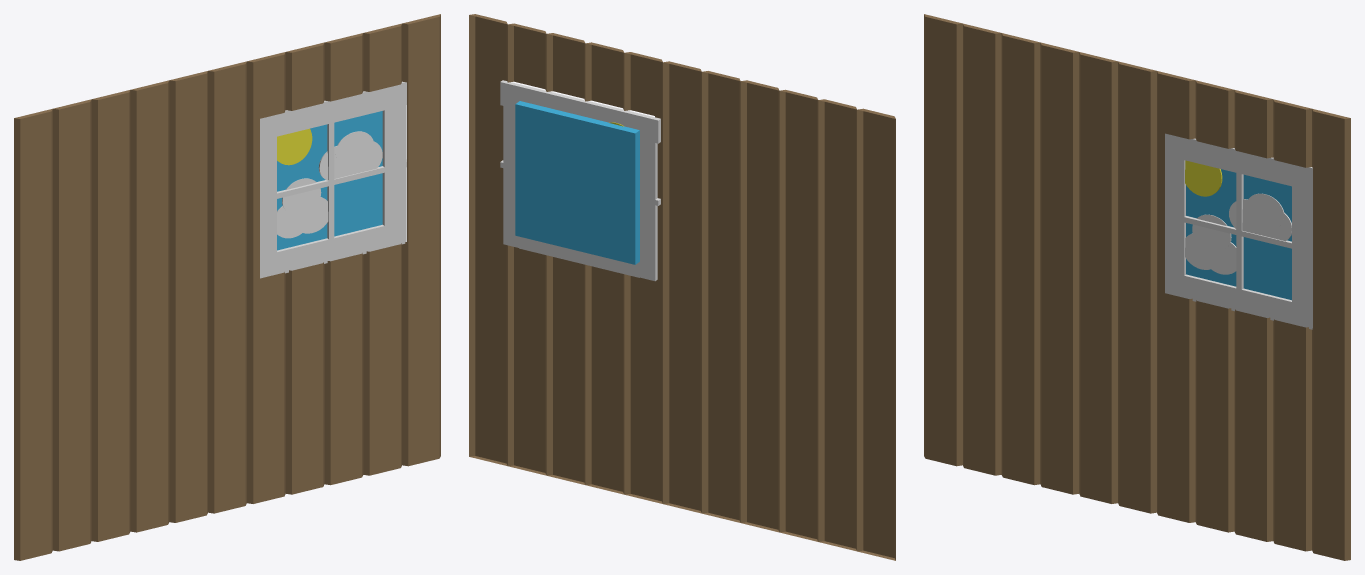
Rendered from background.fbx.
3 renders of one model, left to right at view 1: azimuth 30°, elevation 25°; view 2: azimuth 150°, elevation 25°; view 3: azimuth 330°, elevation 25°, orthographic.
Visible parts, largest first — view 1: Plane, Cube.006, Cube.002, Cube.003, Cube, Cube.001, Cylinder.001, Cylinder, Cube.005, Cylinder.006, Cube.004, Cylinder.004 (+1 smaller); view 2: Plane, Cube.006, Cube.001, Cube.003, Cube.002, Cube; view 3: Plane, Cube.006, Cube.003, Cube.001, Cube.002, Cube, Cylinder.001, Cylinder, Cube.004, Cylinder.006, Cube.005, Cylinder.004 (+1 smaller).
Part boxes in pixels (bbox=[...]): Plane: bbox=[14, 14, 440, 560]; Cube.006: bbox=[277, 111, 382, 250]; Cube.002: bbox=[382, 93, 406, 247]; Cube.003: bbox=[260, 81, 406, 140]; Cube: bbox=[270, 224, 390, 275]; Cube.001: bbox=[260, 125, 276, 278]; Cylinder.001: bbox=[335, 131, 374, 168]; Cylinder: bbox=[277, 128, 312, 165]; Cube.005: bbox=[260, 159, 406, 202]; Cylinder.006: bbox=[282, 178, 321, 215]; Cube.004: bbox=[327, 123, 334, 257]; Cylinder.004: bbox=[277, 206, 311, 238]; Plane: bbox=[469, 14, 895, 560]; Cube.006: bbox=[515, 101, 639, 264]; Cube.001: bbox=[633, 125, 657, 281]; Cube.003: bbox=[500, 80, 660, 143]; Cube.002: bbox=[503, 94, 525, 247]; Cube: bbox=[519, 236, 639, 277]; Plane: bbox=[924, 14, 1350, 560]; Cube.006: bbox=[1186, 169, 1291, 300]; Cube.003: bbox=[1165, 133, 1312, 191]; Cube.001: bbox=[1165, 143, 1185, 297]; Cube.002: bbox=[1292, 174, 1312, 329]; Cube: bbox=[1184, 274, 1298, 325]; Cylinder.001: bbox=[1245, 193, 1283, 230]; Cylinder: bbox=[1185, 160, 1222, 196]; Cube.004: bbox=[1236, 161, 1243, 311]; Cylinder.006: bbox=[1192, 214, 1231, 251]; Cube.005: bbox=[1165, 212, 1312, 253]; Cylinder.004: bbox=[1185, 233, 1220, 269].
Bounding box in the file's own units: 4076 × 4031 × 137.
